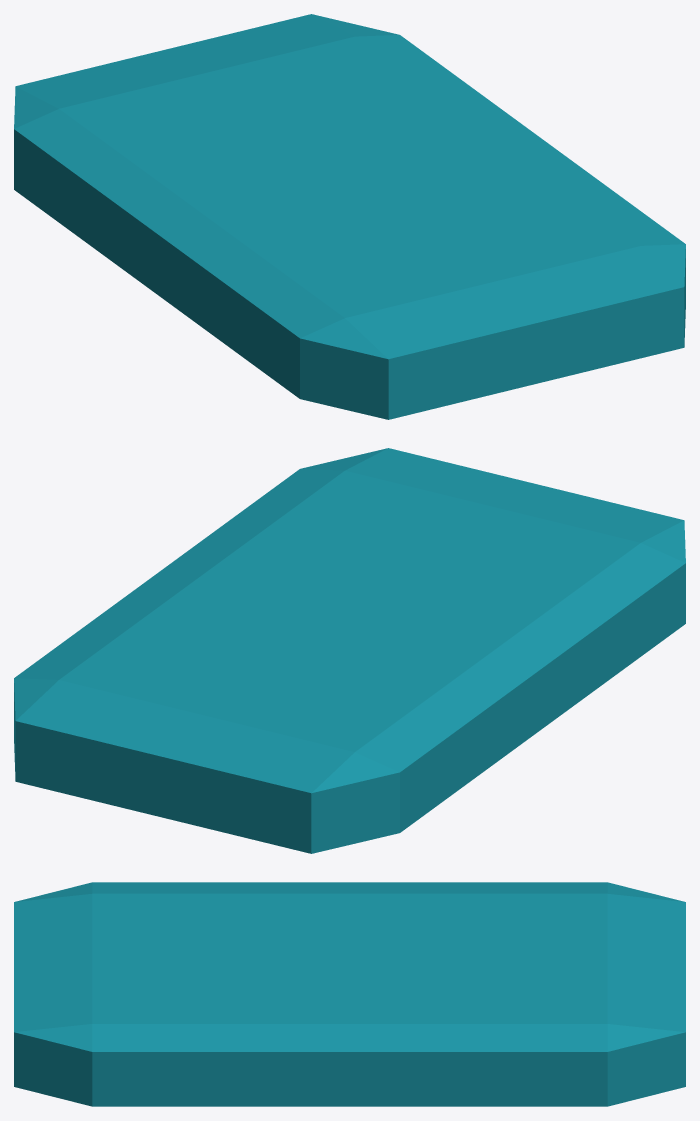
File: pillow.fbx
3 views of the same model, one above another, from view 1: azimuth 30°, elevation 25°; view 2: azimuth 150°, elevation 25°; view 3: azimuth 270°, elevation 25° (orthographic). The views are drawn at different scales.
Visible parts, largest first — view 1: Cube.002; view 2: Cube.002; view 3: Cube.002.
Boxes of the visible parts, x1,y1,x2,y2 form: Cube.002: (14,14,685,419); Cube.002: (14,448,685,853); Cube.002: (14,882,685,1106).
Bounding box in the file's own units: 99.09 × 19.42 × 166.
